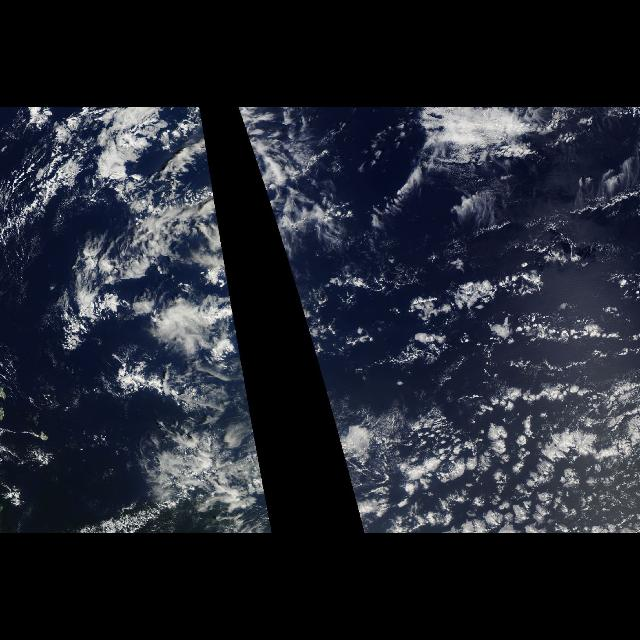Flower: (398, 375, 556, 527)
